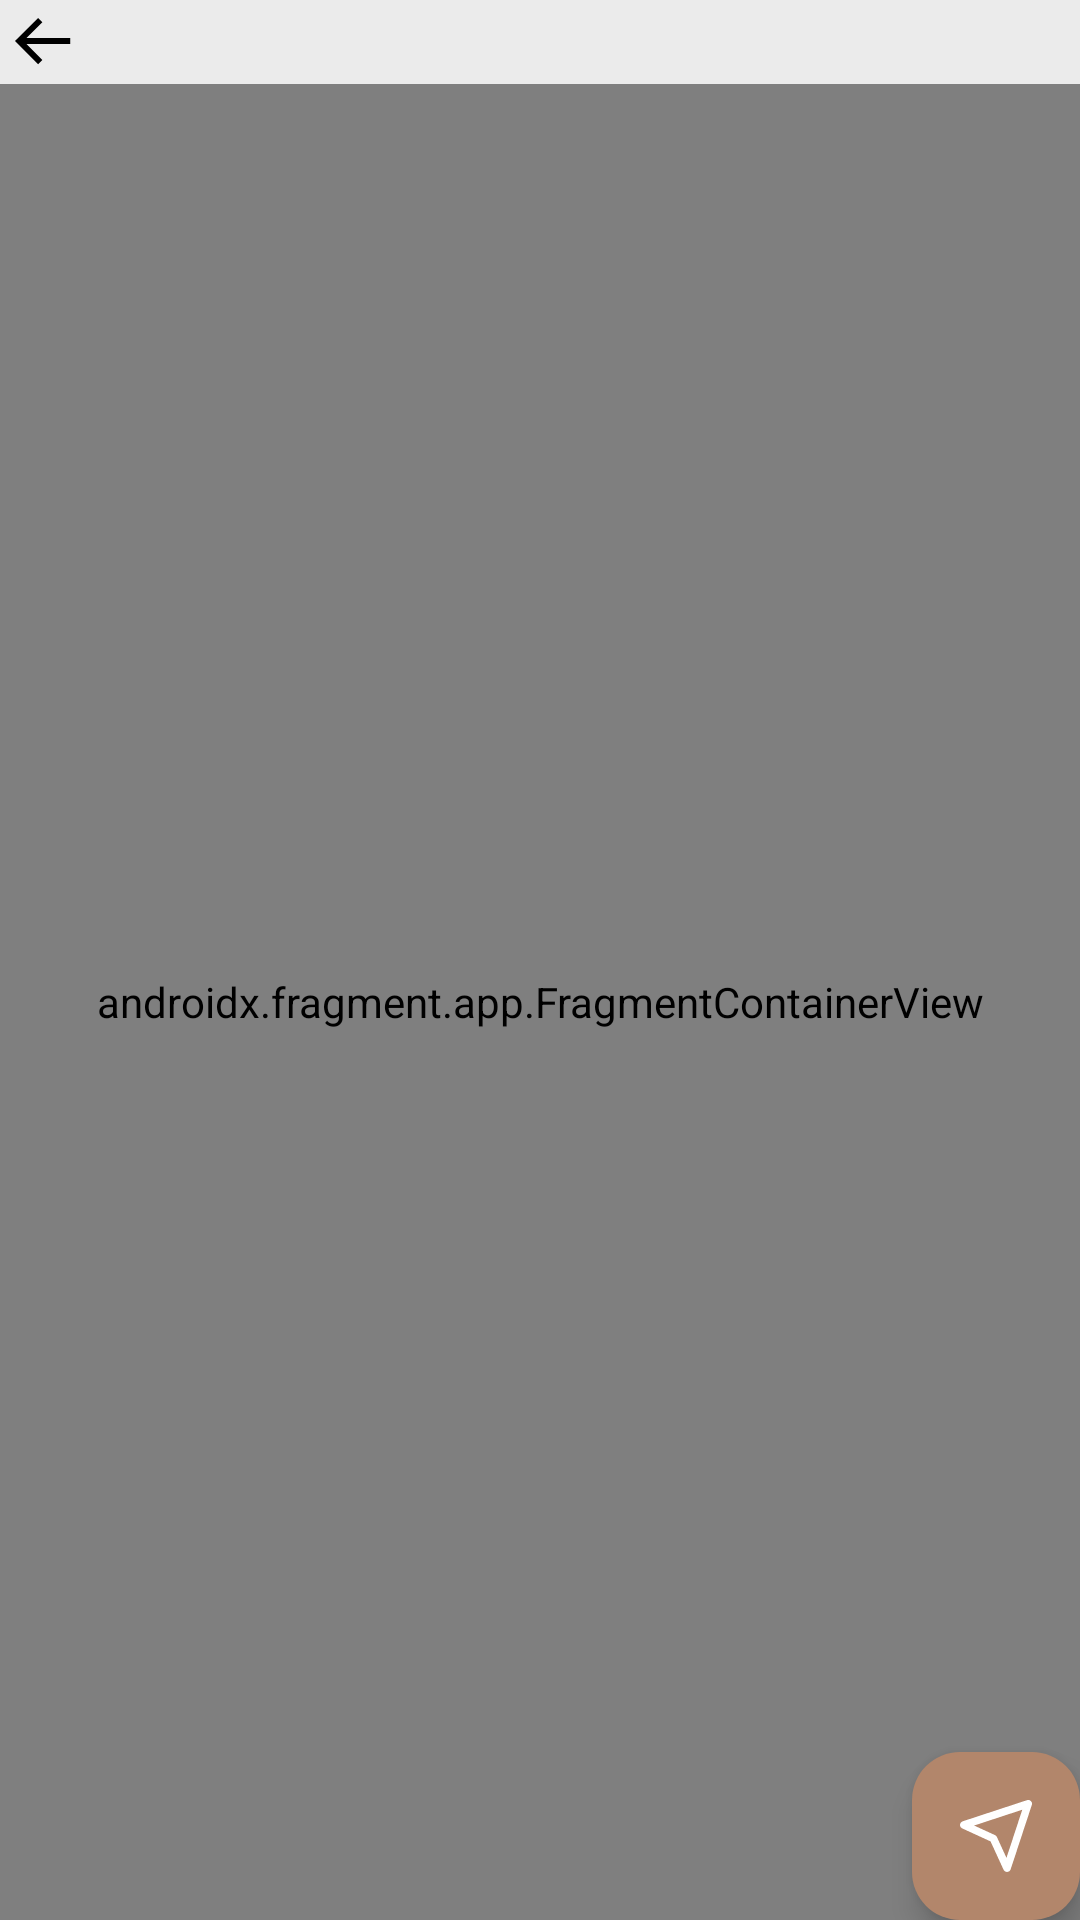

Screen size 1080px x 1920px. Icon name, then its center in pixels as (x,y):
back: (43,41)
navigation: (996,1836)
